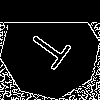T: (25, 25, 80, 77)
